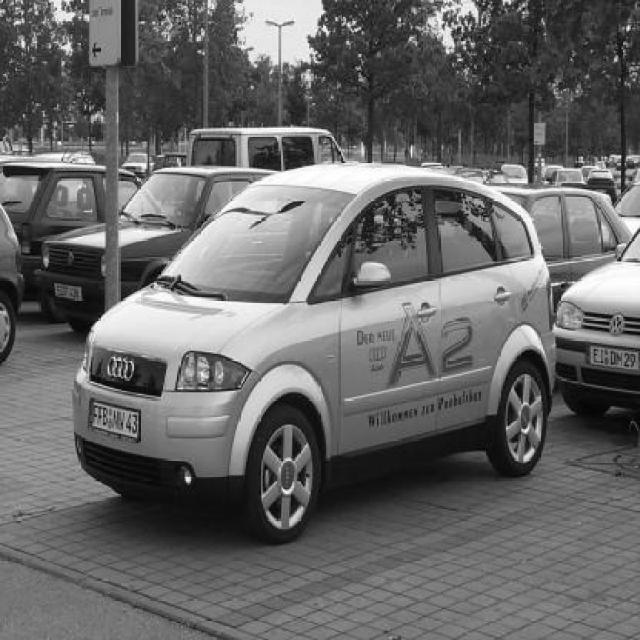car: (69, 157, 560, 545), (43, 166, 280, 311), (555, 217, 640, 429)
license-plate: (88, 400, 142, 443), (583, 342, 640, 371), (52, 283, 86, 302)
